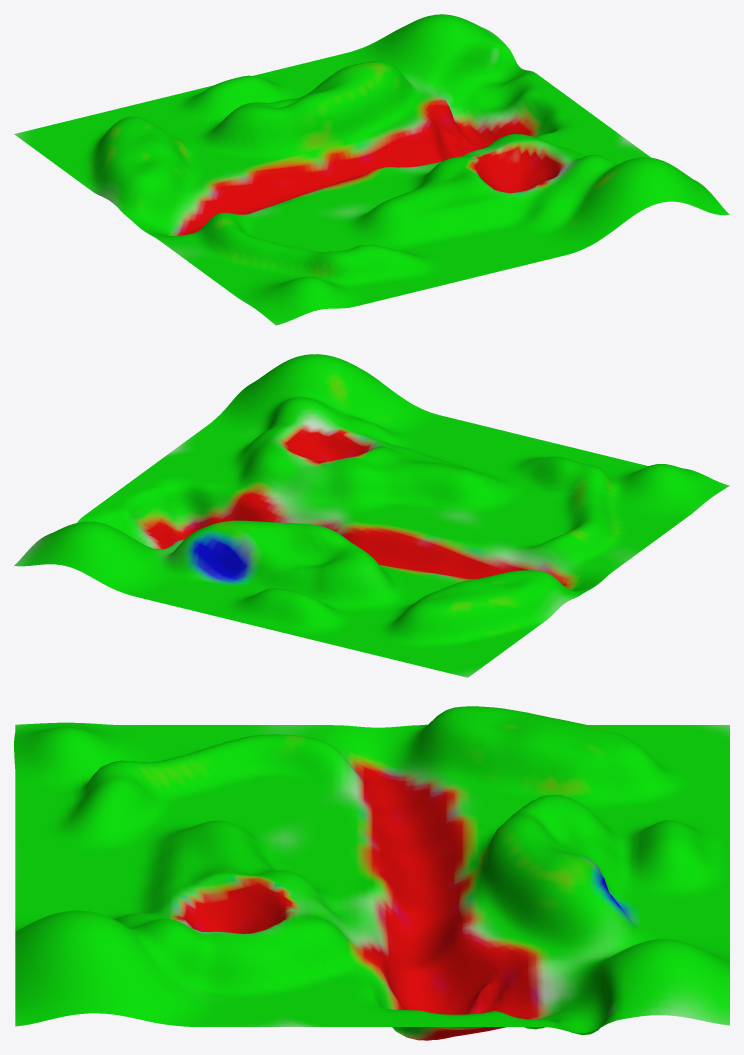
Rendered from MintTagMapMadeByMintManV2.fbx.
3 views of the same model, one above another, from view 1: azimuth 30°, elevation 25°; view 2: azimuth 150°, elevation 25°; view 3: azimuth 270°, elevation 25° (orthographic). The views are drawn at different scales.
Visible parts, largest first — view 1: Plane; view 2: Plane; view 3: Plane.
Part boxes in pixels (left/top/right/bottom): Plane: left=14, top=14, right=729, bottom=325; Plane: left=14, top=354, right=729, bottom=677; Plane: left=14, top=706, right=729, bottom=1040.
Bounding box in the file's own units: 30400 × 6206 × 30462.
